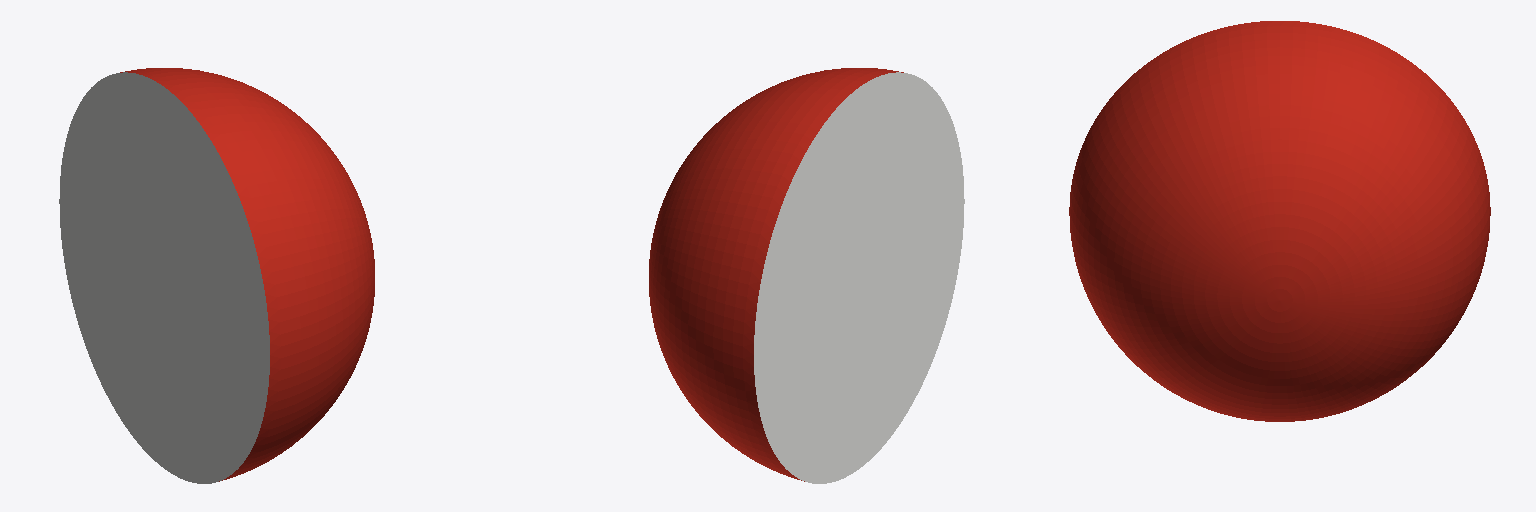
Rendered from half_red.obj.
The picture shows the model from 3 angles: view 1: azimuth 30°, elevation 25°; view 2: azimuth 150°, elevation 25°; view 3: azimuth 270°, elevation 25°; orthographic projection.
Parts seen in each view (by area): view 1: Body1; view 2: Body1; view 3: Body1.
Boxes of the visible parts, x1=… form: Body1: x1=59, y1=68, x2=374, y2=483; Body1: x1=649, y1=68, x2=964, y2=483; Body1: x1=1069, y1=21, x2=1490, y2=421.
Bounding box in the file's own units: 2.5 × 5 × 5.